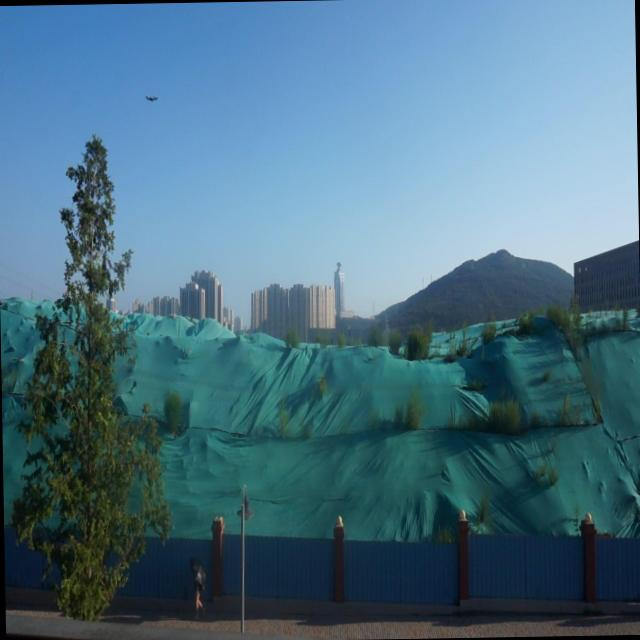drone: (144, 92, 158, 107)
